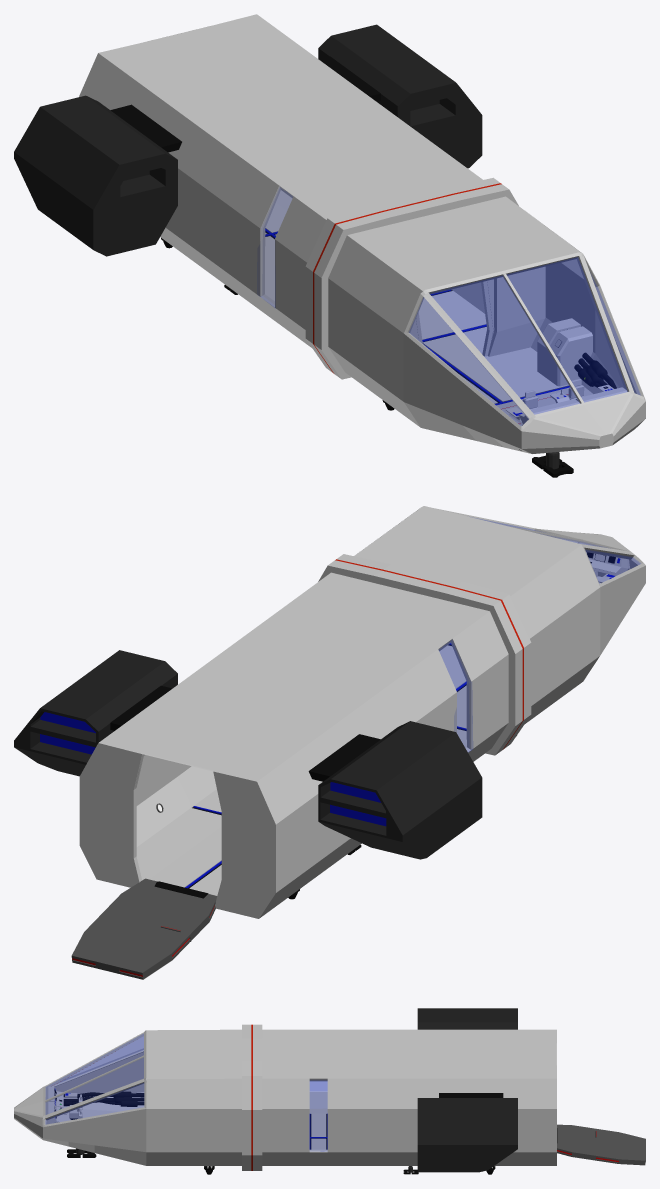
The model's file is nave.obj.
3 renders of one model, top to bottom at view 1: azimuth 30°, elevation 25°; view 2: azimuth 150°, elevation 25°; view 3: azimuth 270°, elevation 25°, orthographic. The views are drawn at different scales.
Visible parts, largest first — view 1: bodyship, mainthruster, frontwindow.002, maithruster1, wall, frontwindow.001, pipesupport.001, sidewindow.001, mtsupport.001, deck, frontwindowsupport, insidedoor_L (+1 smaller); view 2: bodyship, mainthruster, maithruster1, exitdooractual, sidewindow.001, mtsupport.001, frontwindow.001, mthsupport1, deck; view 3: bodyship, maithruster1, frontwindow.002, exitdooractual, mainthruster, frontwindow, sidewindow, deck, frontwindow.001, frontwindowsupport, mthsupport1, pipe (+2 smaller).
Boxes of the visible parts, <box> form: bodyship: <box>79,14,645,453</box>; mainthruster: <box>14,95,177,256</box>; frontwindow.002: <box>430,257,627,414</box>; maithruster1: <box>318,24,482,168</box>; wall: <box>488,266,545,356</box>; frontwindow.001: <box>409,297,528,425</box>; pipesupport.001: <box>537,318,592,386</box>; sidewindow.001: <box>258,187,292,307</box>; mtsupport.001: <box>110,104,181,152</box>; deck: <box>506,384,627,424</box>; frontwindowsupport: <box>502,274,584,403</box>; insidedoor_L: <box>481,279,494,356</box>; bodyship: <box>79,506,645,918</box>; mainthruster: <box>318,721,482,859</box>; maithruster1: <box>14,650,177,776</box>; exitdooractual: <box>71,878,216,979</box>; sidewindow.001: <box>439,640,472,752</box>; mtsupport.001: <box>308,734,380,781</box>; frontwindow.001: <box>585,550,640,583</box>; mthsupport1: <box>110,685,172,730</box>; deck: <box>558,538,630,583</box>; bodyship: <box>14,1024,556,1170</box>; maithruster1: <box>417,1098,517,1172</box>; frontwindow.002: <box>46,1034,143,1114</box>; exitdooractual: <box>557,1124,645,1165</box>; mainthruster: <box>417,1008,517,1029</box>; frontwindow: <box>45,1083,143,1124</box>; sidewindow: <box>310,1080,327,1151</box>; deck: <box>45,1086,78,1124</box>; frontwindow.001: <box>59,1037,143,1082</box>; frontwindowsupport: <box>44,1055,143,1102</box>; mthsupport1: <box>439,1093,503,1097</box>; pipe: <box>63,1100,144,1106</box>.
Size of the model in its own units: 9.2 by 3.78 by 20.44.
